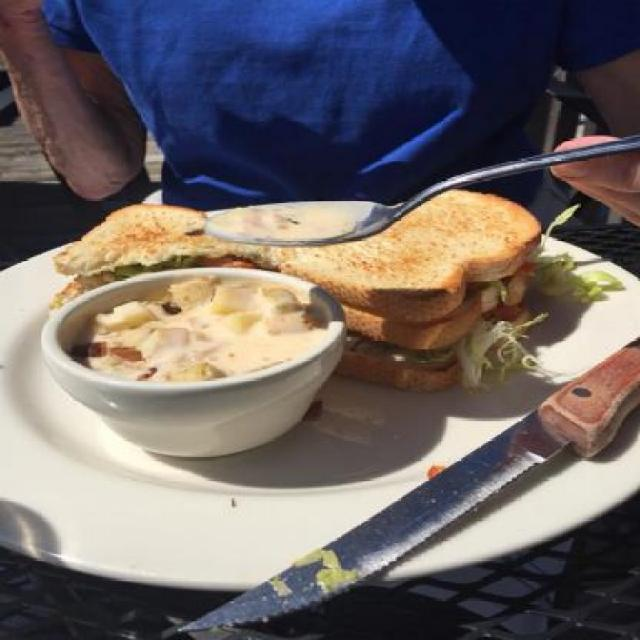clam chowder: (43, 271, 334, 451), (216, 195, 364, 250)
club sandwich: (72, 178, 551, 396)
